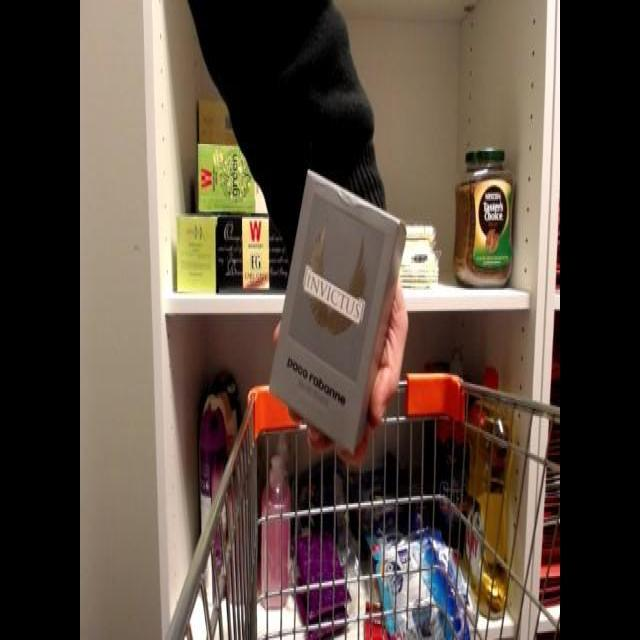Paco Rabanne: (264, 158, 421, 454)
